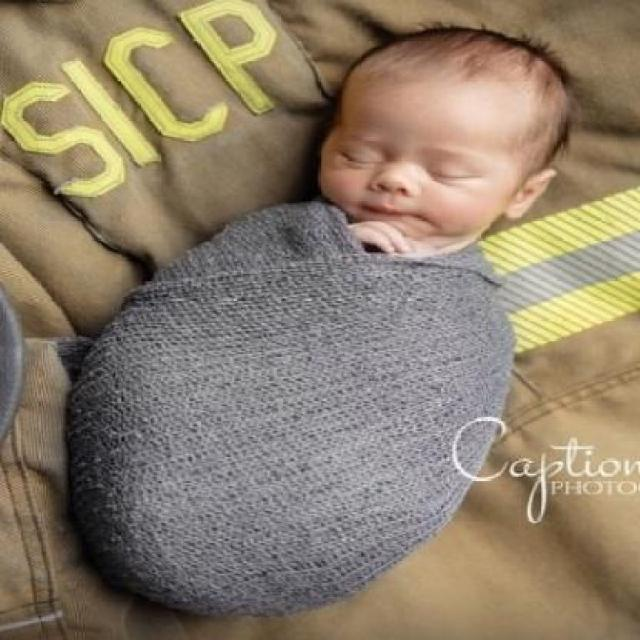baby: (68, 24, 572, 610)
